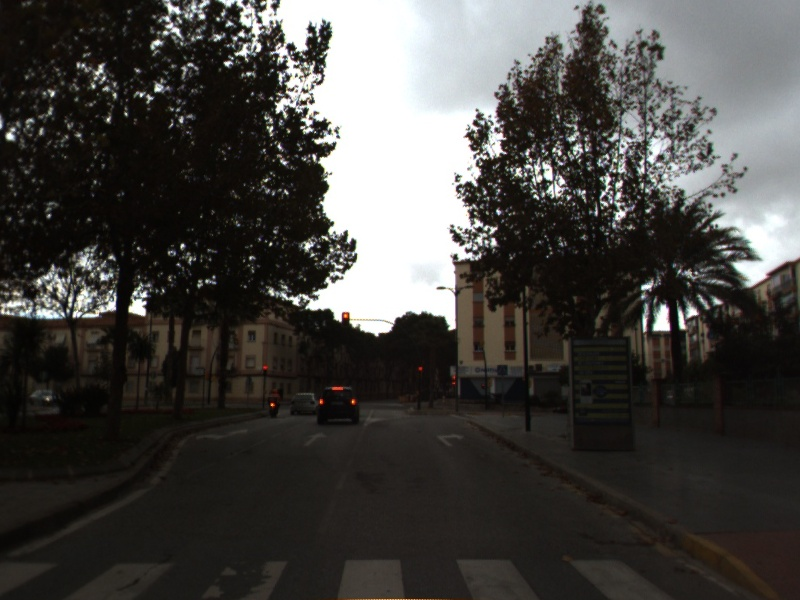RIGHT: (433, 430, 467, 449)
STRAIGHT: (300, 429, 330, 448)
STRAIGHT_LEFT: (193, 425, 251, 443)
